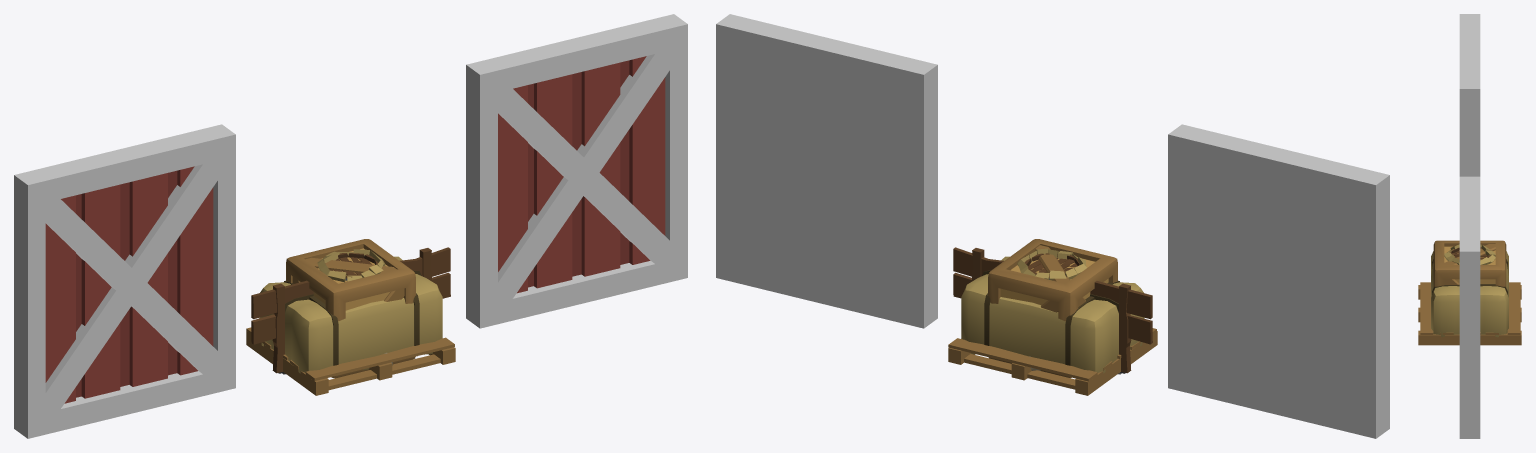
The model's file is barn-kit.glb.
3 renders of one model, left to right at view 1: azimuth 30°, elevation 25°; view 2: azimuth 150°, elevation 25°; view 3: azimuth 270°, elevation 25°, orthographic. The views are drawn at different scales.
Visible parts, largest first — view 1: BarnDoors, HayBale, Crate, Pallet, Rail, HaySheaf; view 2: BarnDoors, HayBale, Crate, Pallet, Rail, HaySheaf; view 3: BarnDoors, HayBale, Pallet, Crate, HaySheaf.
Boxes of the visible parts, x1=… form: BarnDoors: x1=14, y1=14, x2=687, y2=438; HayBale: x1=259, y1=256, x2=442, y2=373; Crate: x1=286, y1=239, x2=415, y2=378; Pallet: x1=246, y1=327, x2=455, y2=395; Rail: x1=251, y1=247, x2=450, y2=373; HaySheaf: x1=317, y1=249, x2=385, y2=282; BarnDoors: x1=716, y1=14, x2=1389, y2=438; HayBale: x1=961, y1=256, x2=1144, y2=373; Crate: x1=988, y1=239, x2=1117, y2=378; Pallet: x1=948, y1=328, x2=1157, y2=395; Rail: x1=953, y1=247, x2=1152, y2=373; HaySheaf: x1=1017, y1=248, x2=1086, y2=280; BarnDoors: x1=1459, y1=14, x2=1480, y2=438; HayBale: x1=1431, y1=251, x2=1508, y2=337; Pallet: x1=1418, y1=282, x2=1521, y2=345; Crate: x1=1433, y1=240, x2=1506, y2=287; HaySheaf: x1=1444, y1=244, x2=1495, y2=264.
Bounding box in the file's own units: 7.95 × 3.1 × 1.46.
